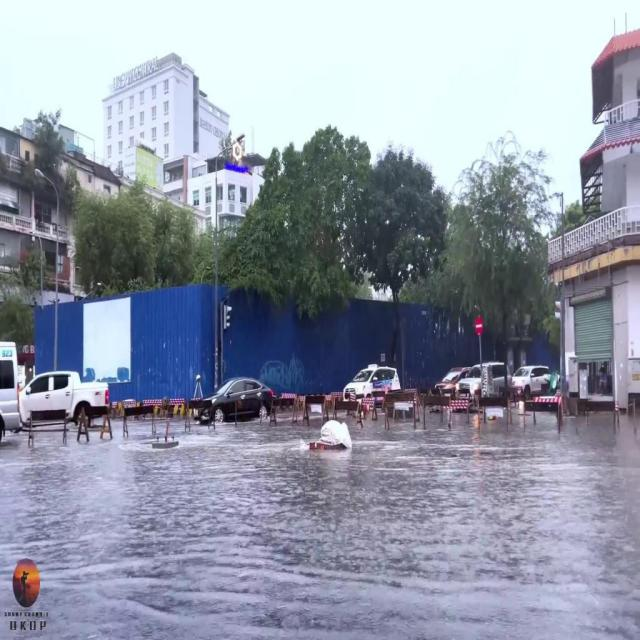cam_xe_di_nguoc_chieu: (476, 316, 482, 335)
